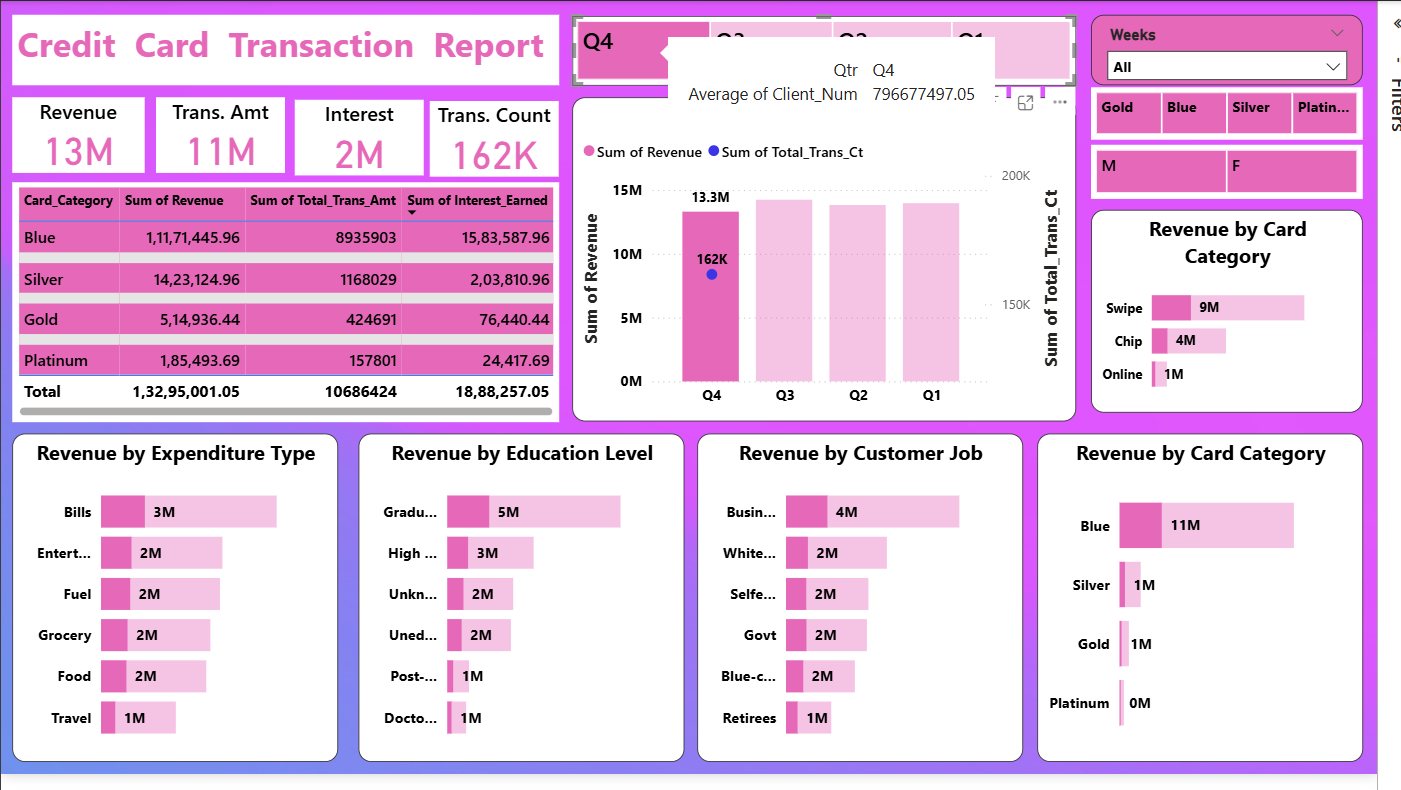

Layout of this report page (visuals, bound fields, positions):
{"tool":"powerbi","page":{"name":"Page 2","canvas":[1280,720],"ordinal":1},"visuals":[{"type":"textbox","box":[10,12.9,508.6,65.7],"z":0},{"type":"lineStackedColumnComboChart","title":"Revenue and Total Trans  Count","fields":{"Category":["ccdb cc_detail.Qtr"],"Y":["Sum(ccdb cc_detail.Revenue)"],"Y2":["Sum(ccdb cc_detail.Total_Trans_Ct)"]},"box":[531.4,90,468.6,301.4],"z":1000},{"type":"barChart","title":" Revenue by Expenditure Type","fields":{"Y":["Sum(ccdb cc_detail.Revenue)"],"Category":["ccdb cc_detail.Exp_Type"]},"box":[10,402.9,303,305.7],"z":2000},{"type":"barChart","title":" Revenue by Education Level","fields":{"Y":["Sum(ccdb cc_detail.Revenue)"],"Category":["ccdb cust_detail.Education_Level"]},"box":[332.9,402.9,303,305.7],"z":3000},{"type":"barChart","title":" Revenue by Customer Job","fields":{"Y":["Sum(ccdb cc_detail.Revenue)"],"Category":["ccdb cust_detail.Customer_Job"]},"box":[647.1,402.9,302.9,305.7],"z":4000},{"type":"barChart","title":" Revenue by Card Category","fields":{"Y":["Sum(ccdb cc_detail.Revenue)"],"Category":["ccdb cc_detail.Card_Category"]},"box":[964.3,402.9,302.9,305.7],"z":5000},{"type":"barChart","title":" Revenue by Card Category","fields":{"Y":["Sum(ccdb cc_detail.Revenue)"],"Category":["ccdb cc_detail.Use_Chip"]},"box":[1014.3,194.3,252.9,188.6],"z":6000},{"type":"tableEx","fields":{"Values":["ccdb cc_detail.Card_Category","Sum(ccdb cc_detail.Revenue)","Sum(ccdb cc_detail.Total_Trans_Amt)","Sum(ccdb cc_detail.Interest_Earned)"]},"box":[10,168.6,508.6,222.9],"z":7000},{"type":"card","title":"Interest ","fields":{"Values":["Sum(ccdb cc_detail.Interest_Earned)"]},"box":[272.9,91.4,120,70],"z":8000},{"type":"card","title":"Revenue","fields":{"Values":["Sum(ccdb cc_detail.Revenue)"]},"box":[10,90,122.9,70],"z":9000},{"type":"card","title":"Trans. Amt","fields":{"Values":["Sum(ccdb cc_detail.Total_Trans_Amt)"]},"box":[144.3,90,120,70],"z":10000},{"type":"card","title":"Trans. Count","fields":{"Values":["Sum(ccdb cc_detail.Total_Trans_Ct)"]},"box":[398.6,92.9,120,70],"z":11000},{"type":"slicer","fields":{"Values":["ccdb cc_detail.Week_Start_Date"]},"box":[1014.3,12.9,252.9,65.7],"z":12000},{"type":"treemap","fields":{"Group":["ccdb cc_detail.Qtr"],"Values":["Avg(ccdb cc_detail.Client_Num)"]},"box":[531.4,14.3,468.6,64.3],"z":13000},{"type":"treemap","fields":{"Group":["ccdb cust_detail.Gender"],"Values":["Avg(ccdb cc_detail.Client_Num)"]},"box":[1014.3,134.3,252.9,50],"z":14000},{"type":"treemap","fields":{"Group":["ccdb cc_detail.Card_Category"],"Values":["Avg(ccdb cc_detail.Client_Num)"]},"box":[1014.3,80,252.9,48.6],"z":15000}]}

Visuals, with their boxes in screenshot pixels (x1, y1, x2, y2):
textbox: pyautogui.locateOnScreen(7, 10, 556, 81)
"Revenue and Total Trans  Count" lineStackedColumnComboChart: pyautogui.locateOnScreen(570, 93, 1076, 419)
" Revenue by Expenditure Type" barChart: pyautogui.locateOnScreen(7, 431, 334, 761)
" Revenue by Education Level" barChart: pyautogui.locateOnScreen(356, 431, 683, 761)
" Revenue by Customer Job" barChart: pyautogui.locateOnScreen(695, 431, 1022, 761)
" Revenue by Card Category" barChart: pyautogui.locateOnScreen(1037, 431, 1364, 761)
" Revenue by Card Category" barChart: pyautogui.locateOnScreen(1091, 206, 1364, 410)
tableEx - ccdb cc_detail.Card_Category x Sum(ccdb cc_detail.Revenue): pyautogui.locateOnScreen(7, 178, 556, 419)
"Interest " card: pyautogui.locateOnScreen(291, 95, 420, 171)
"Revenue" card: pyautogui.locateOnScreen(7, 93, 140, 169)
"Trans. Amt" card: pyautogui.locateOnScreen(152, 93, 282, 169)
"Trans. Count" card: pyautogui.locateOnScreen(427, 97, 556, 172)
slicer - ccdb cc_detail.Week_Start_Date: pyautogui.locateOnScreen(1091, 10, 1364, 81)
treemap - ccdb cc_detail.Qtr x Avg(ccdb cc_detail.Client_Num): pyautogui.locateOnScreen(570, 12, 1076, 81)
treemap - ccdb cust_detail.Gender x Avg(ccdb cc_detail.Client_Num): pyautogui.locateOnScreen(1091, 141, 1364, 195)
treemap - ccdb cc_detail.Card_Category x Avg(ccdb cc_detail.Client_Num): pyautogui.locateOnScreen(1091, 83, 1364, 135)
